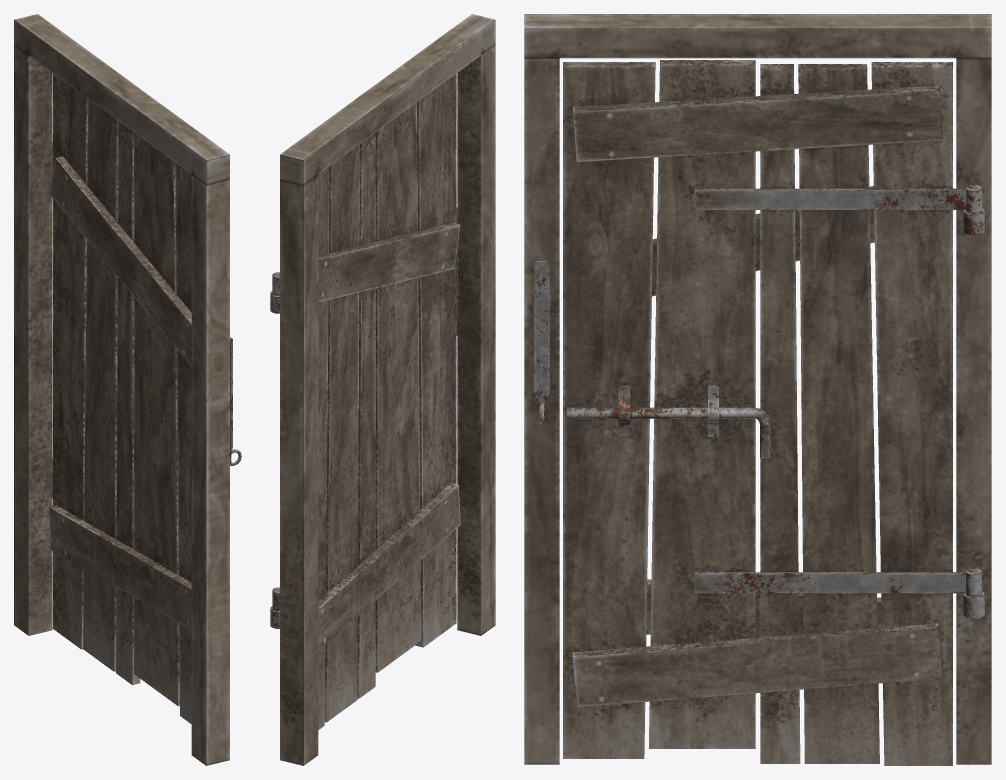
File: WoodenDoor.fbx
3 renders of one model, left to right at view 1: azimuth 30°, elevation 25°; view 2: azimuth 150°, elevation 25°; view 3: azimuth 270°, elevation 25°, orthographic. The views are drawn at different scales.
Size of the model in its own units: 54 by 730 by 420.
